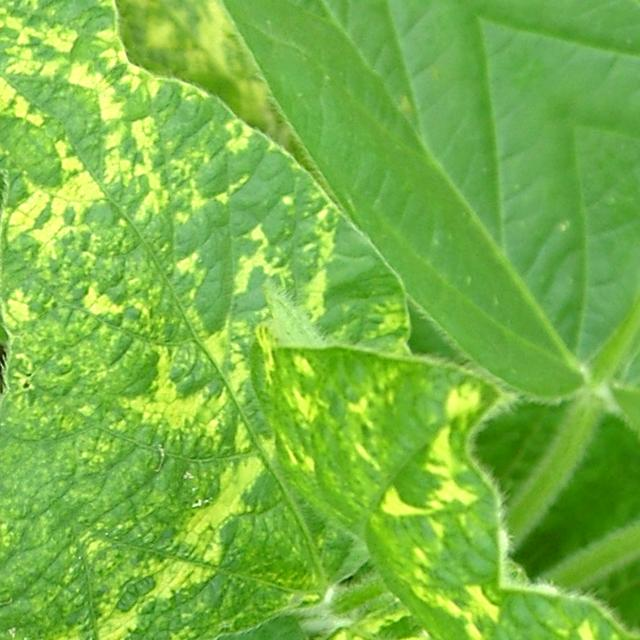Tomato leaf: (0, 36, 504, 640), (165, 0, 640, 437), (242, 444, 598, 640)
Tomato leaf mosaic virus: (0, 268, 640, 599), (76, 0, 640, 258)
